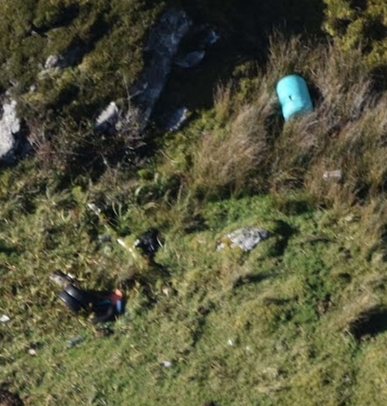together_barrel: (51, 280, 127, 324)
white_in_green: (237, 42, 350, 150)
